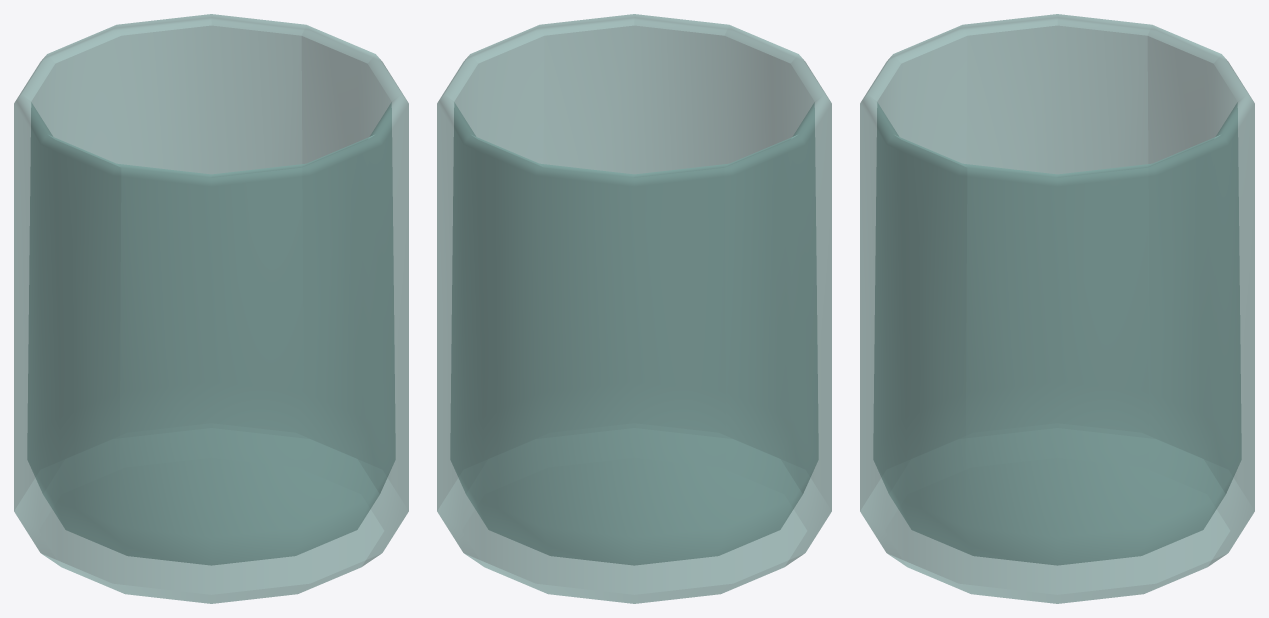
The model's file is SM_props_glass.fbx.
3 renders of one model, left to right at view 1: azimuth 30°, elevation 25°; view 2: azimuth 150°, elevation 25°; view 3: azimuth 270°, elevation 25°, orthographic.
Parts seen in each view (by area): view 1: SM_props_glass; view 2: SM_props_glass; view 3: SM_props_glass.
Part boxes in pixels (<box>): SM_props_glass: <box>14,14,408,603</box>; SM_props_glass: <box>437,14,831,603</box>; SM_props_glass: <box>860,14,1254,603</box>.
Bounding box in the file's own units: 9.64 × 11.76 × 9.64.
